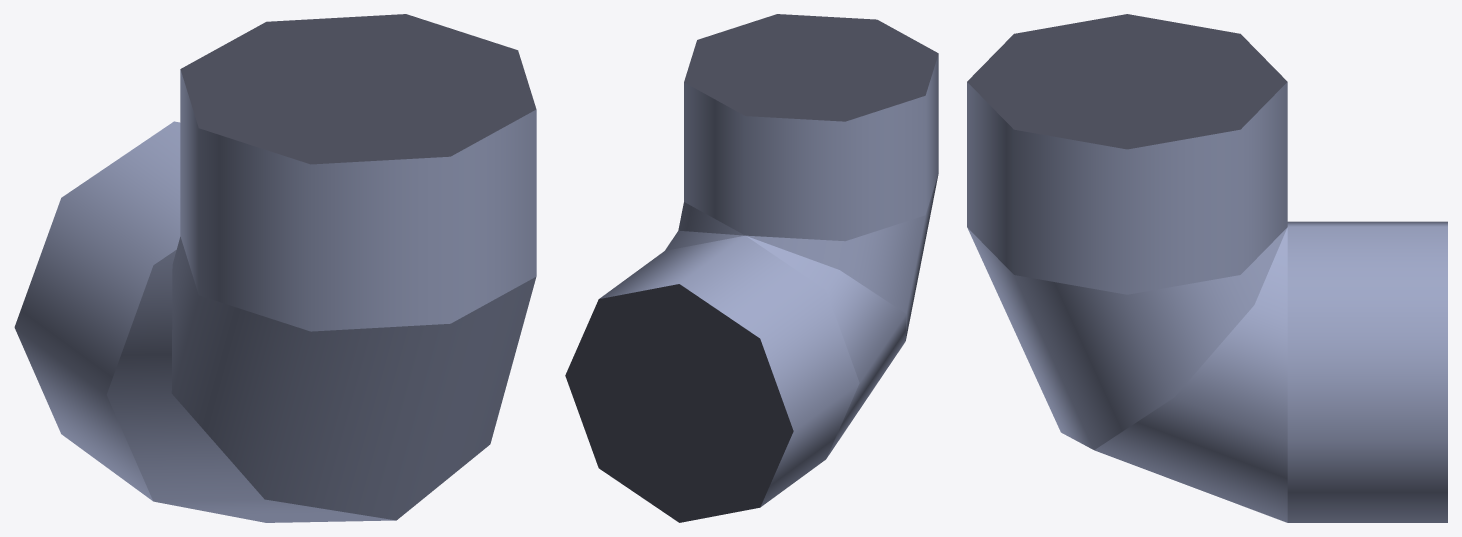
File: kenney-building-gutter-vertical-bottom.glb
3 renders of one model, left to right at view 1: azimuth 30°, elevation 25°; view 2: azimuth 150°, elevation 25°; view 3: azimuth 270°, elevation 25°, orthographic. The views are drawn at different scales.
Visible parts, largest first — view 1: gutter-vertical-bottom; view 2: gutter-vertical-bottom; view 3: gutter-vertical-bottom.
Boxes of the visible parts, x1,y1,x2,y2 form: gutter-vertical-bottom: (14, 14, 536, 522); gutter-vertical-bottom: (565, 14, 938, 522); gutter-vertical-bottom: (967, 14, 1447, 522).
Bounding box in the file's own units: 0.2 × 0.3 × 0.3.
1 material, 1 textured.
